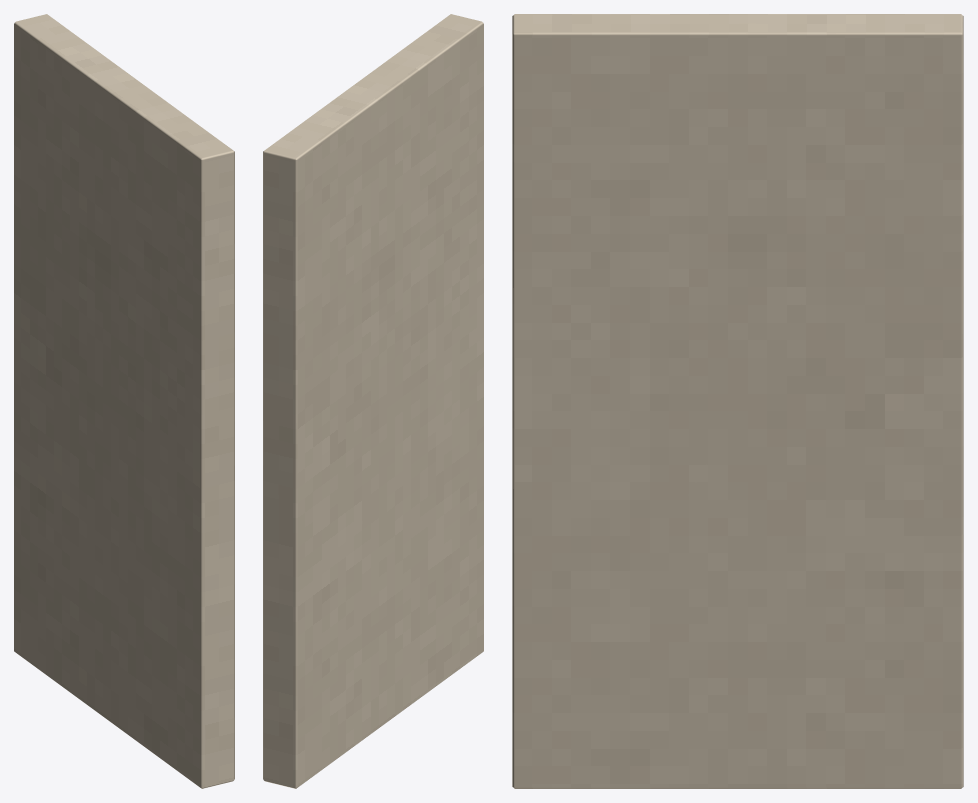
File: Left-side.glb
The picture shows the model from 3 angles, left to right: view 1: azimuth 30°, elevation 25°; view 2: azimuth 150°, elevation 25°; view 3: azimuth 270°, elevation 25°; orthographic projection. The views are drawn at different scales.
Visible parts, largest first — view 1: Left-side; view 2: Left-side; view 3: Left-side.
Part boxes in pixels (x1,y1,x2,y2): Left-side: [14, 14, 234, 788]; Left-side: [263, 14, 483, 788]; Left-side: [512, 14, 963, 788].
Bounding box in the file's own units: 0.096 × 1.66 × 0.9.
1 material, 1 textured.
